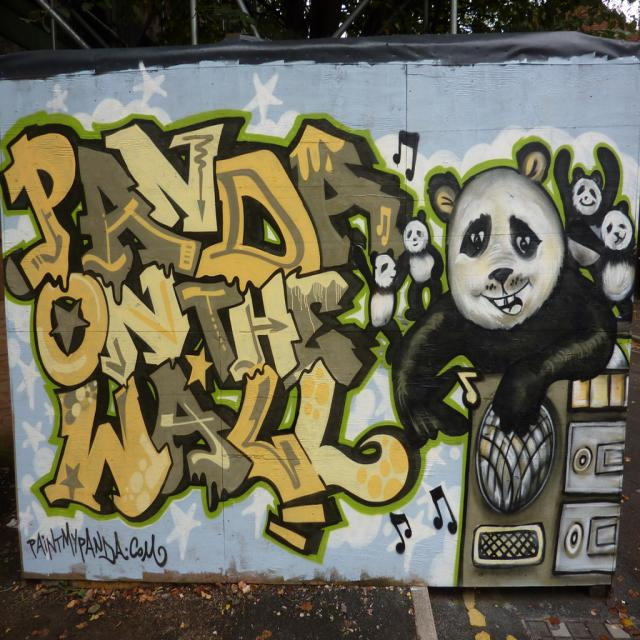panda: (391, 138, 619, 450), (552, 141, 622, 284), (564, 200, 636, 320), (358, 243, 408, 369), (394, 208, 445, 321)
